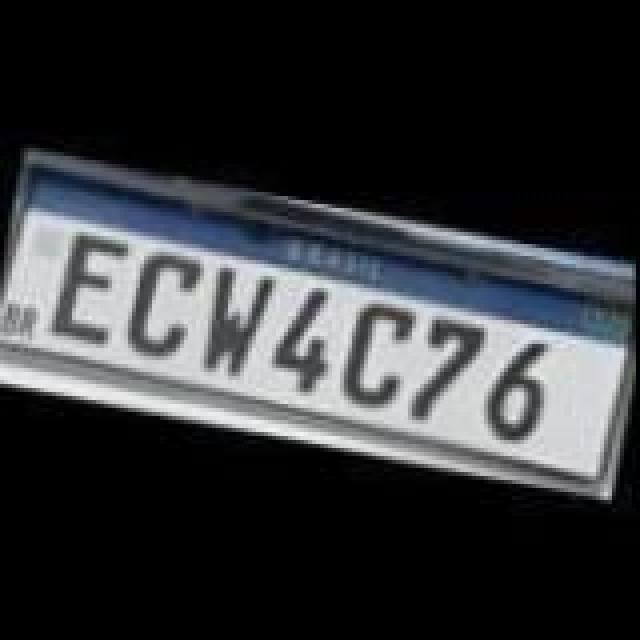4: (262, 274, 346, 390)
6: (474, 322, 562, 450)
7: (398, 302, 490, 426)
C: (116, 238, 212, 362)
D: (326, 290, 418, 414)
E: (48, 224, 136, 348)
W: (190, 252, 282, 380)
